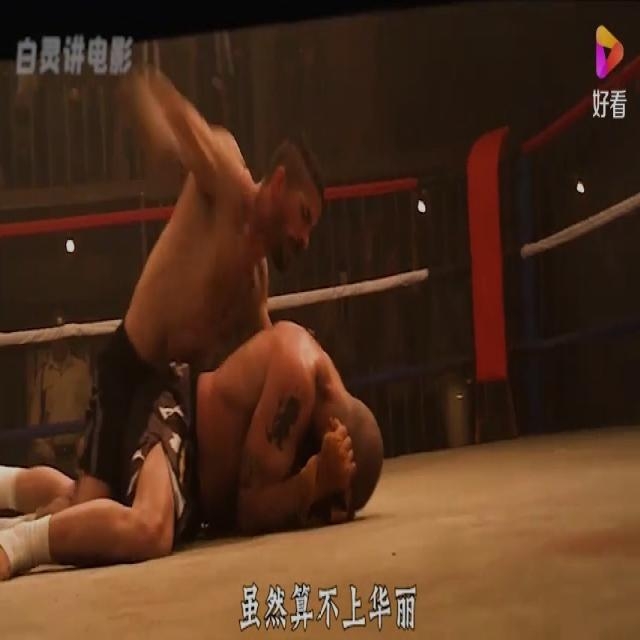fight: (0, 64, 384, 584)
non-fight: (25, 320, 92, 474)
